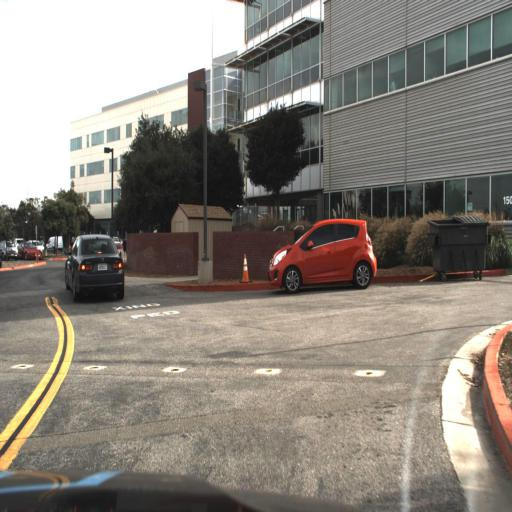car: (266, 216, 377, 296), (61, 230, 127, 304), (19, 241, 41, 265)
